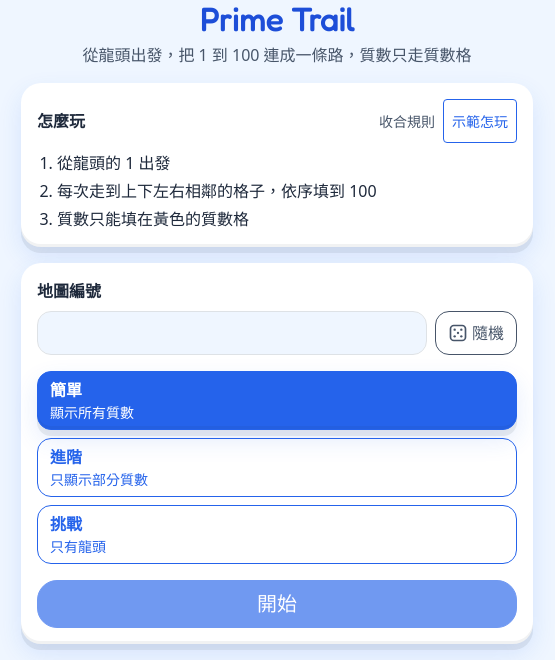
HomeView › marks a normal clear as cleared for the typed id
The image size is (555, 660).
(page scrolled)
Type "1" into the number field labelled "地圖編號" at (232, 333), box [37,311,427,355]
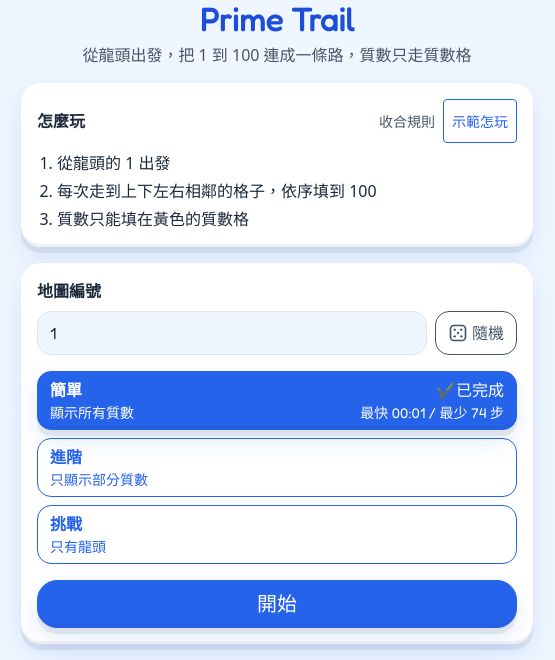
Expected: the element showing "✔已完成" is shown, [436,378,504,402]
Expected: the text "最快 00:01 / 最少 74 步" is shown, [360,402,504,423]
